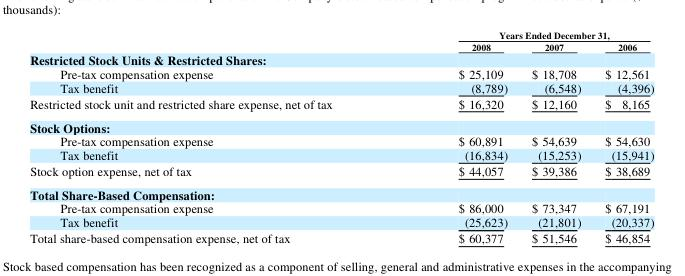table: (29, 29, 653, 245)
table column: (29, 29, 394, 245), (394, 29, 519, 245), (519, 29, 592, 245), (592, 29, 653, 245)
table column header: (29, 29, 653, 52)
table projected row header: (29, 115, 653, 134), (29, 182, 653, 201), (29, 52, 653, 66)
table row: (29, 95, 653, 115), (29, 162, 653, 182), (29, 115, 653, 134), (29, 182, 653, 201), (29, 80, 653, 95), (29, 147, 653, 162), (29, 215, 653, 230), (29, 230, 653, 245), (29, 52, 653, 66), (29, 66, 653, 80), (29, 201, 653, 215), (29, 134, 653, 147), (29, 40, 653, 52), (29, 29, 653, 40)
table spanning cell: (394, 29, 653, 40)
